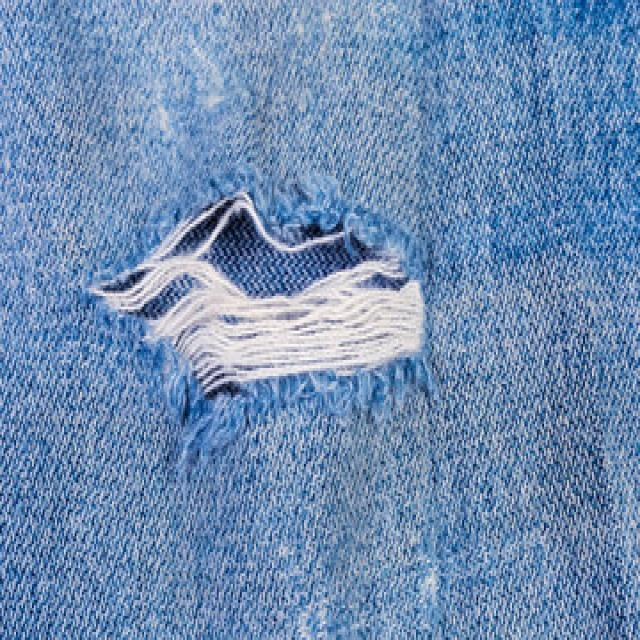Hole: (90, 191, 426, 400)
